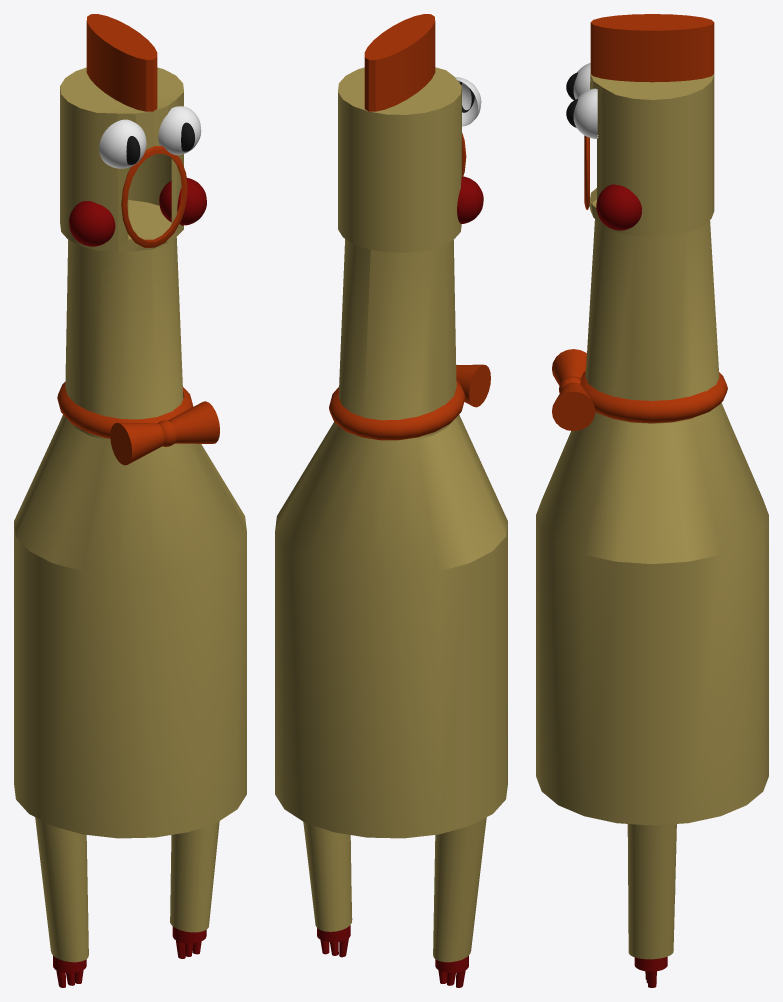
File: Rubber Chicken.fbx
3 renders of one model, left to right at view 1: azimuth 30°, elevation 25°; view 2: azimuth 150°, elevation 25°; view 3: azimuth 270°, elevation 25°, orthographic.
Visible parts, largest first — view 1: Chicken_body, Chicken_head, Chicken_leg, Chicken_leg1, Collor, Bowtie1, Chicken_right_cheek, Chicken_lip, Bowtie, Chicken_right_eyeball, Chicken_left_eyeball, Chicken_left_cheek; view 2: Chicken_body, Chicken_head, Chicken_leg, Chicken_leg1, Collor, Bowtie1, Chicken_right_cheek, Chicken_right_eyeball; view 3: Chicken_body, Chicken_head, Chicken_leg1, Collor, Chicken_left_cheek, Bowtie, Chicken_left_eyeball, Bowtie1.
Boxes of the visible parts, box(x1,y1,x2,y2) form: Chicken_body: box(14, 200, 246, 838); Chicken_head: box(60, 14, 183, 251); Chicken_leg: box(35, 817, 88, 962); Chicken_leg1: box(170, 821, 219, 932); Collor: box(57, 382, 193, 438); Bowtie1: box(110, 422, 164, 465); Chicken_right_cheek: box(69, 201, 115, 246); Chicken_lip: box(121, 146, 187, 247); Bowtie: box(168, 401, 219, 443); Chicken_right_eyeball: box(99, 119, 146, 168); Chicken_left_eyeball: box(158, 106, 201, 155); Chicken_left_cheek: box(159, 178, 206, 225); Chicken_body: box(275, 239, 507, 838); Chicken_head: box(338, 14, 461, 252); Chicken_leg: box(433, 817, 486, 962); Chicken_leg1: box(303, 822, 352, 931); Collor: box(329, 380, 465, 440); Bowtie1: box(456, 364, 490, 407); Chicken_right_cheek: box(457, 176, 483, 223); Chicken_right_eyeball: box(455, 77, 481, 126); Chicken_body: box(536, 207, 768, 825); Chicken_head: box(589, 14, 714, 236); Chicken_leg1: box(627, 824, 676, 959); Collor: box(580, 371, 727, 423); Chicken_left_cheek: box(596, 184, 641, 230); Bowtie: box(552, 382, 595, 431); Chicken_left_eyeball: box(573, 88, 598, 138); Bowtie1: box(552, 349, 586, 385).
Bounding box in the file's own units: 2 × 8.81 × 2.
